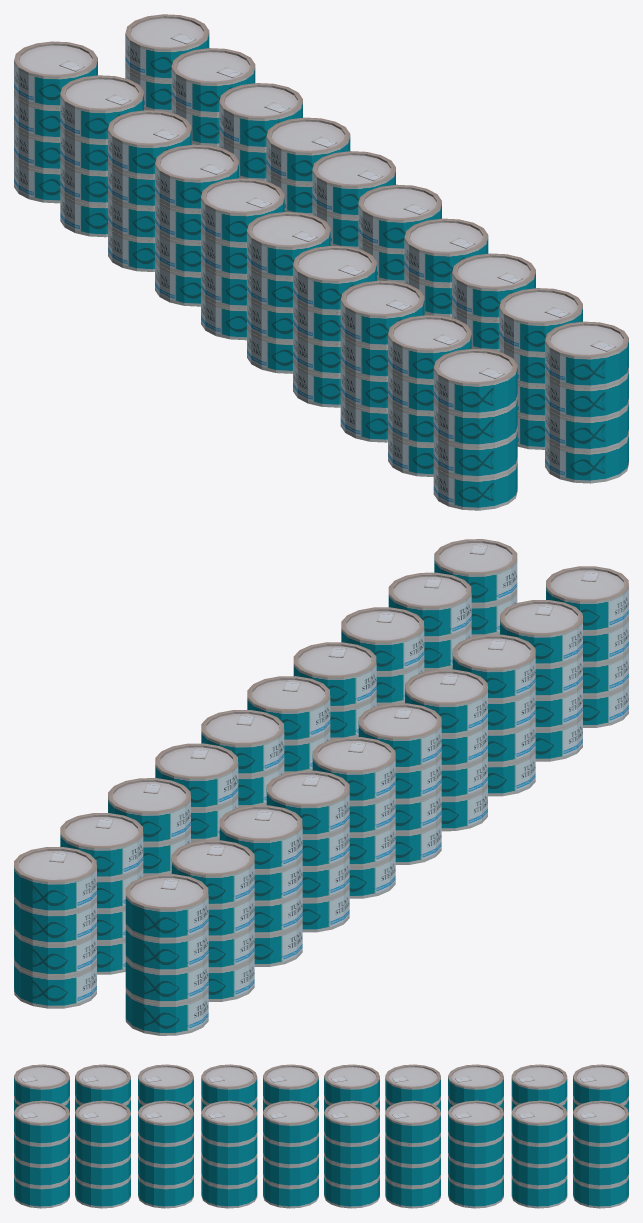
The model's file is tunapile.fbx.
3 views of the same model, one above another, from view 1: azimuth 30°, elevation 25°; view 2: azimuth 150°, elevation 25°; view 3: azimuth 270°, elevation 25° (orthographic). The views are drawn at different scales.
Parts seen in each view (by area): view 1: Beans.001; view 2: Beans.001; view 3: Beans.001.
Boxes of the visible parts, x1,y1,x2,y2 form: Beans.001: (14,14,628,510); Beans.001: (14,539,628,1035); Beans.001: (14,1064,628,1208).
Size of the model in its own units: 81.28 by 53.35 by 353.
